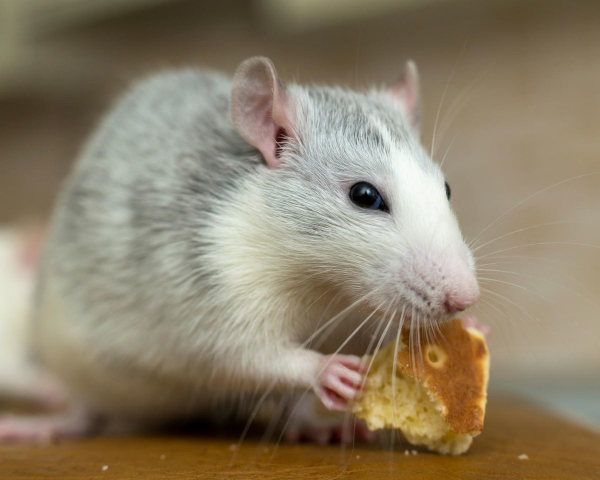rat: (22, 52, 487, 417)
